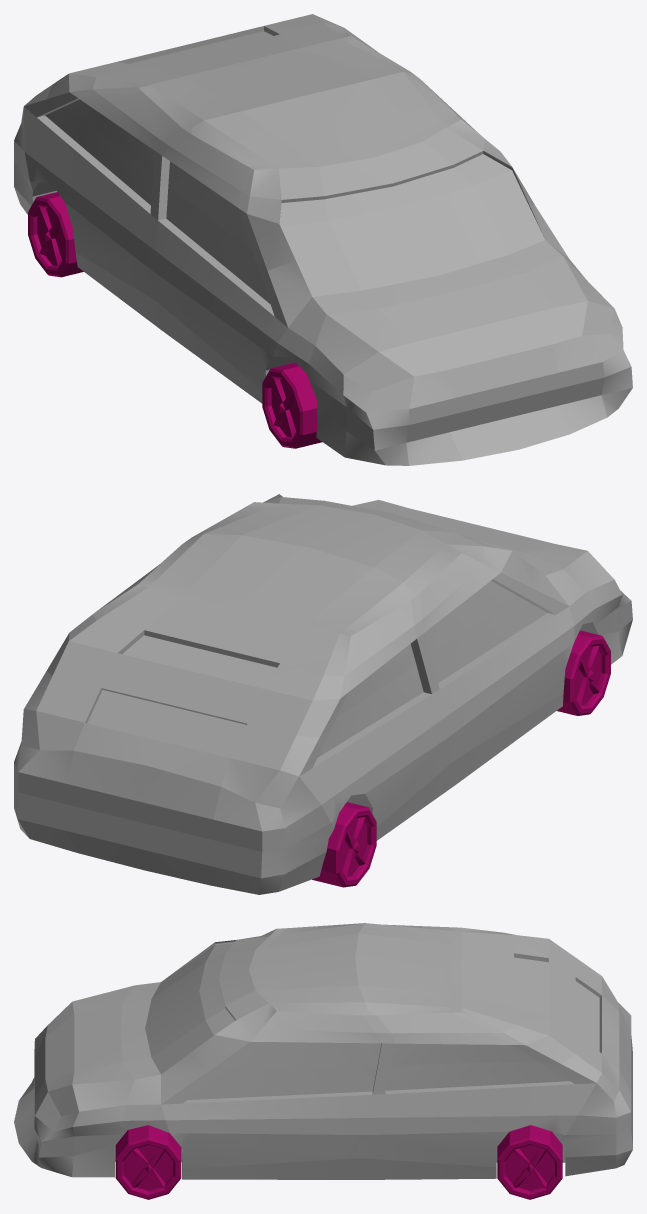
The model's file is Car 1.fbx.
The picture shows the model from 3 angles, top to bottom: view 1: azimuth 30°, elevation 25°; view 2: azimuth 150°, elevation 25°; view 3: azimuth 270°, elevation 25°; orthographic projection. The views are drawn at different scales.
Parts seen in each view (by area): view 1: Car_Body, pCylinder4, pCylinder3; view 2: Car_Body, pCylinder3, pCylinder4; view 3: Car_Body, pCylinder1, pCylinder2.
Part boxes in pixels (x1=…): Car_Body: x1=14, y1=14, x2=632, y2=465; pCylinder4: x1=262, y1=362, x2=322, y2=448; pCylinder3: x1=28, y1=192, x2=83, y2=277; Car_Body: x1=14, y1=494, x2=632, y2=894; pCylinder3: x1=312, y1=802, x2=376, y2=887; pCylinder4: x1=557, y1=630, x2=610, y2=715; Car_Body: x1=14, y1=923, x2=632, y2=1179; pCylinder1: x1=115, y1=1125, x2=181, y2=1199; pCylinder2: x1=497, y1=1125, x2=562, y2=1199.
Size of the model in its own units: 267 by 180 by 558.
